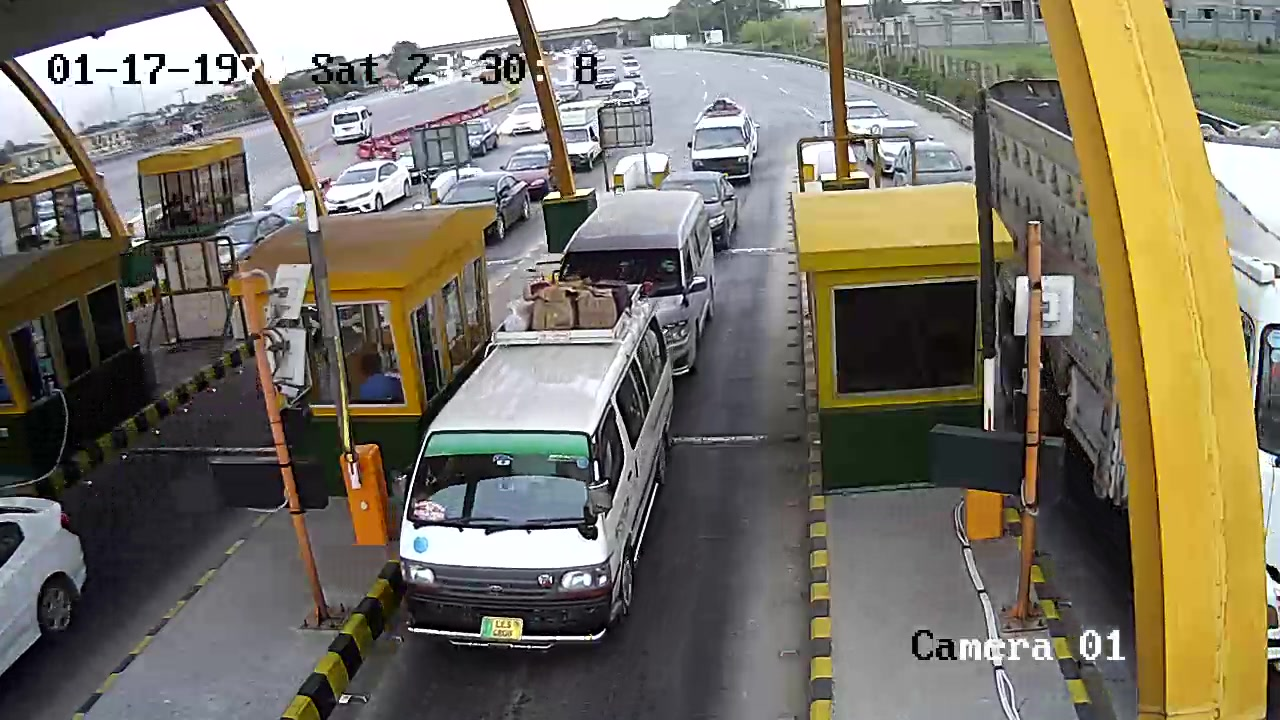F2: (404, 277, 677, 655)
